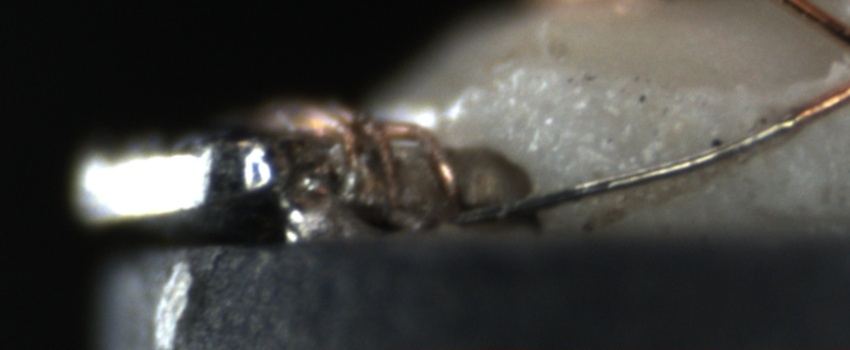DL: (610, 72, 850, 108)
TE: (255, 97, 459, 208)
TS: (457, 116, 799, 223)
